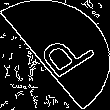P_SW: (20, 25, 90, 85)
